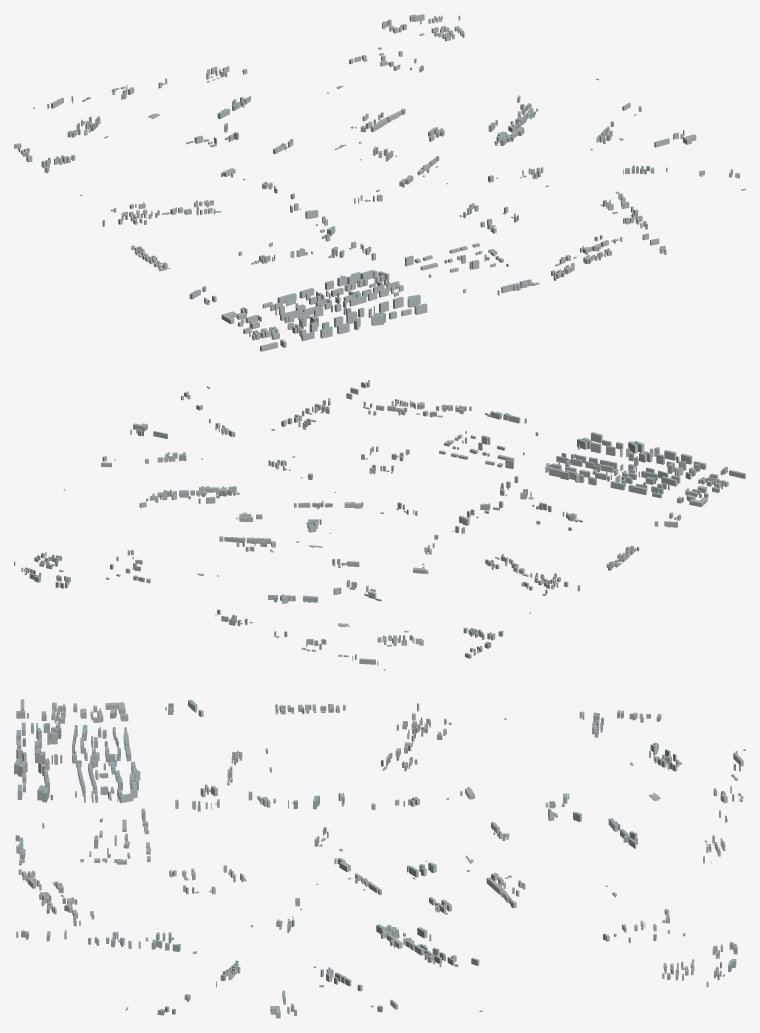
The model's file is far.glb.
The picture shows the model from 3 angles, top to bottom: view 1: azimuth 30°, elevation 25°; view 2: azimuth 150°, elevation 25°; view 3: azimuth 270°, elevation 25°; orthographic projection. The views are drawn at different scales.
Bounding box in the file's own units: 2132 × 33 × 2104.
